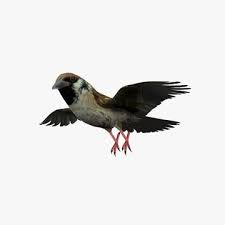hsparrow: (36, 70, 194, 159)
